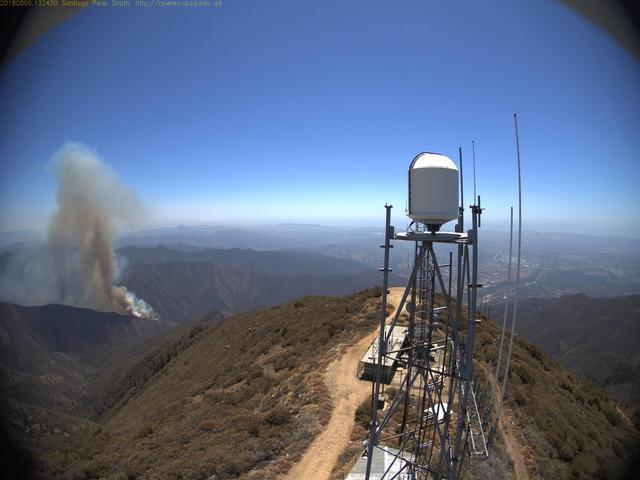smoke: (4, 143, 155, 326)
